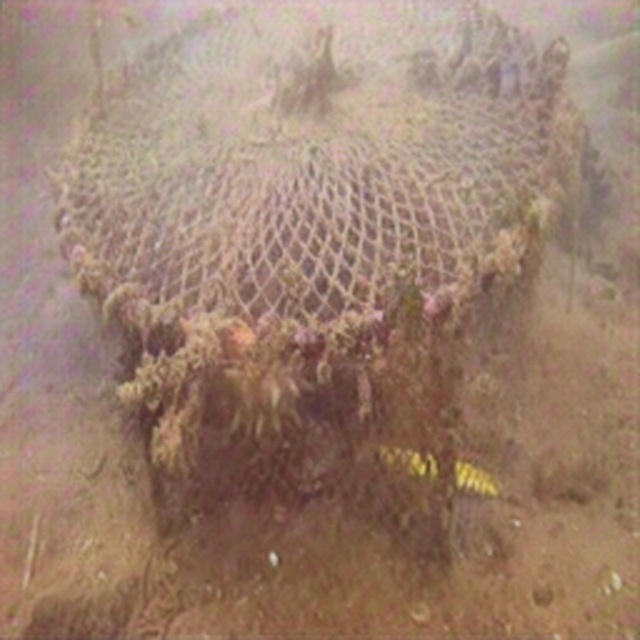mine: (55, 0, 579, 572)
